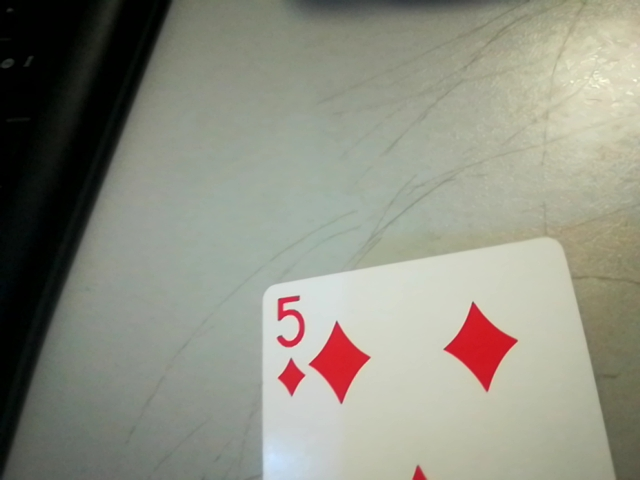fk 5: (259, 287, 318, 402)
